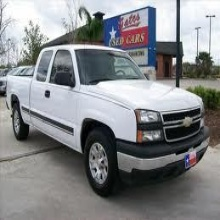no damage: (6, 44, 209, 197)
